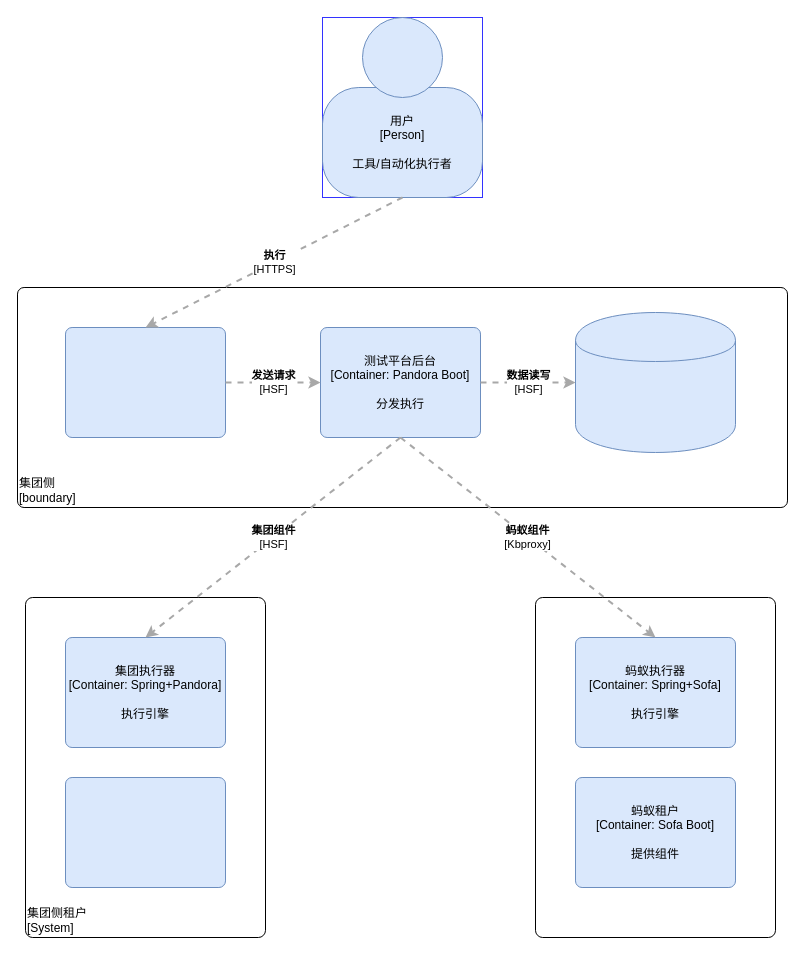
This 805x955 diagram has some shape labels left out. Here are the shapes that lost their labels. From the top down, the box of each, then its label:
(64, 326, 226, 438): 测试平台页面 [Container: Spring Controler ] 页面展示
(574, 312, 736, 452): Database [Container: Tddl] 所有数据结构
(534, 596, 776, 938): 蚂蚁侧租户 [System]
(64, 776, 226, 888): 集团租户 [Container: Pandora Boot ] 提供组件
